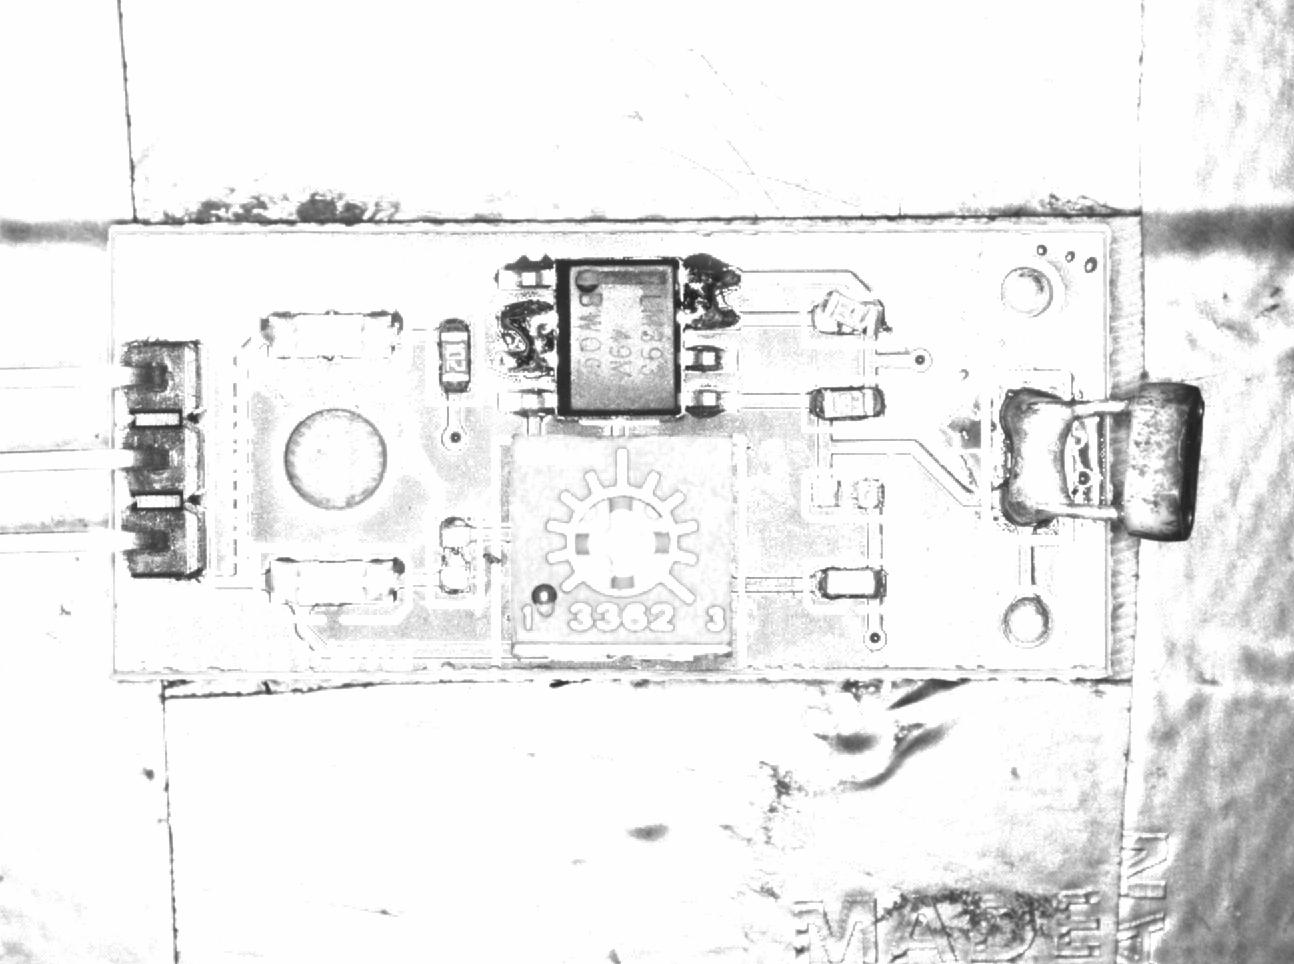bridge: (983, 368, 1076, 546), (496, 295, 560, 383), (679, 253, 745, 336)
lifted: (800, 284, 891, 349)
miss: (428, 503, 483, 601), (804, 468, 894, 525)
ok: (800, 373, 891, 436), (428, 304, 481, 405), (809, 564, 893, 608)
